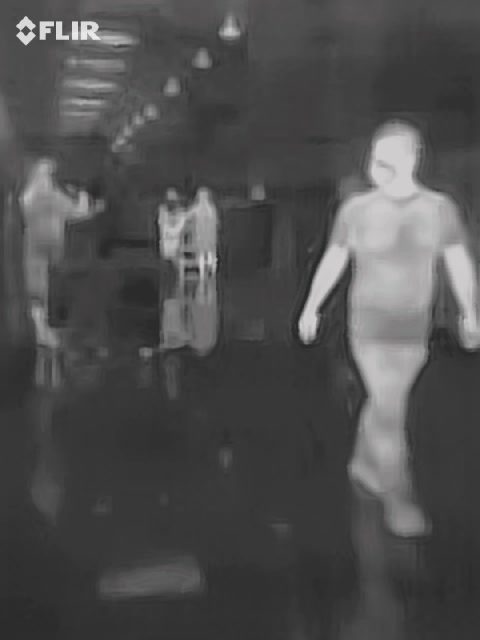head: (367, 118, 424, 193)
